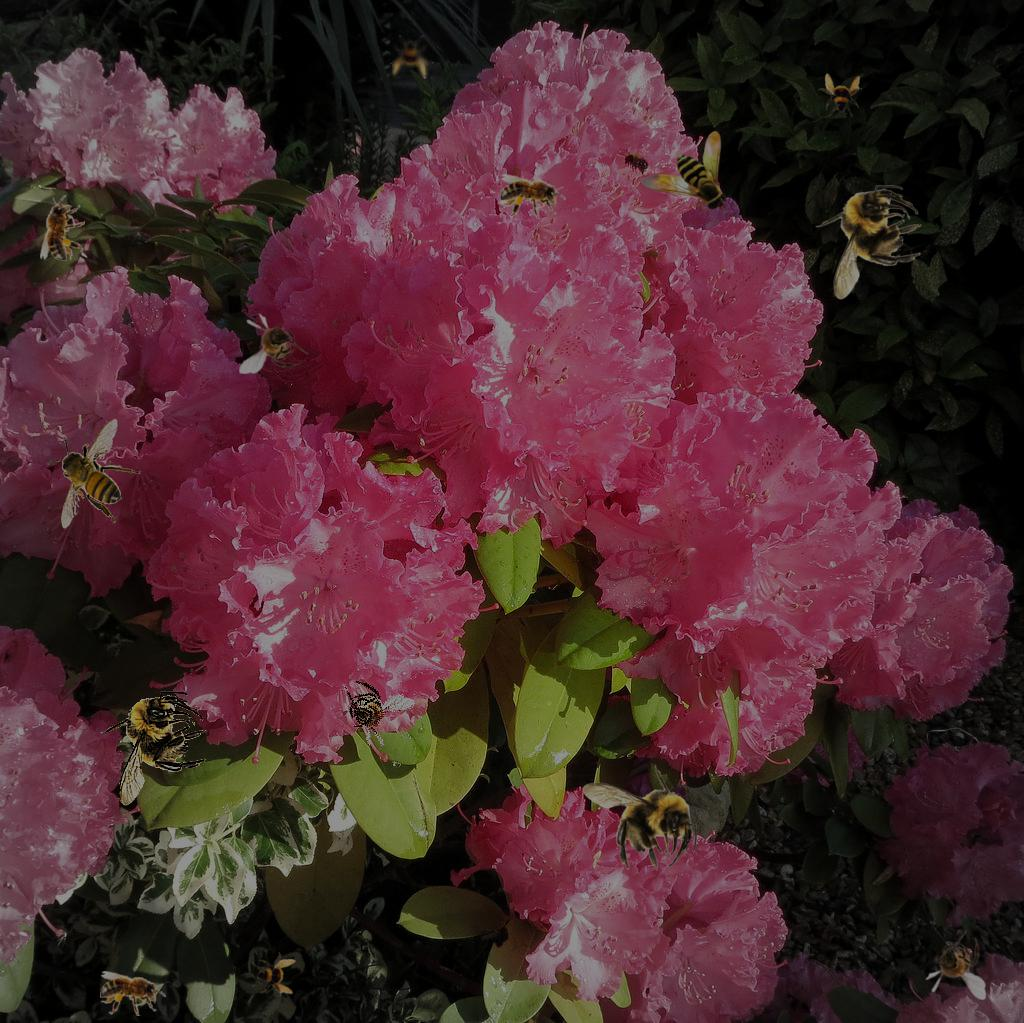Bee: (815, 185, 922, 300), (582, 764, 697, 871), (100, 691, 207, 806), (47, 418, 141, 529), (325, 668, 416, 756), (640, 131, 728, 213), (239, 313, 309, 374), (925, 930, 986, 1000), (40, 195, 85, 261), (100, 971, 166, 1016), (500, 174, 566, 219), (818, 73, 862, 117), (252, 952, 296, 996), (390, 35, 434, 79)
